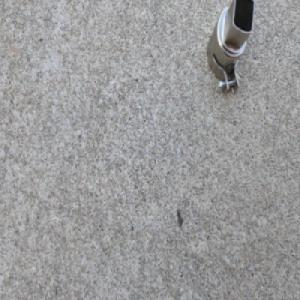MetalPart: (206, 0, 255, 101)
